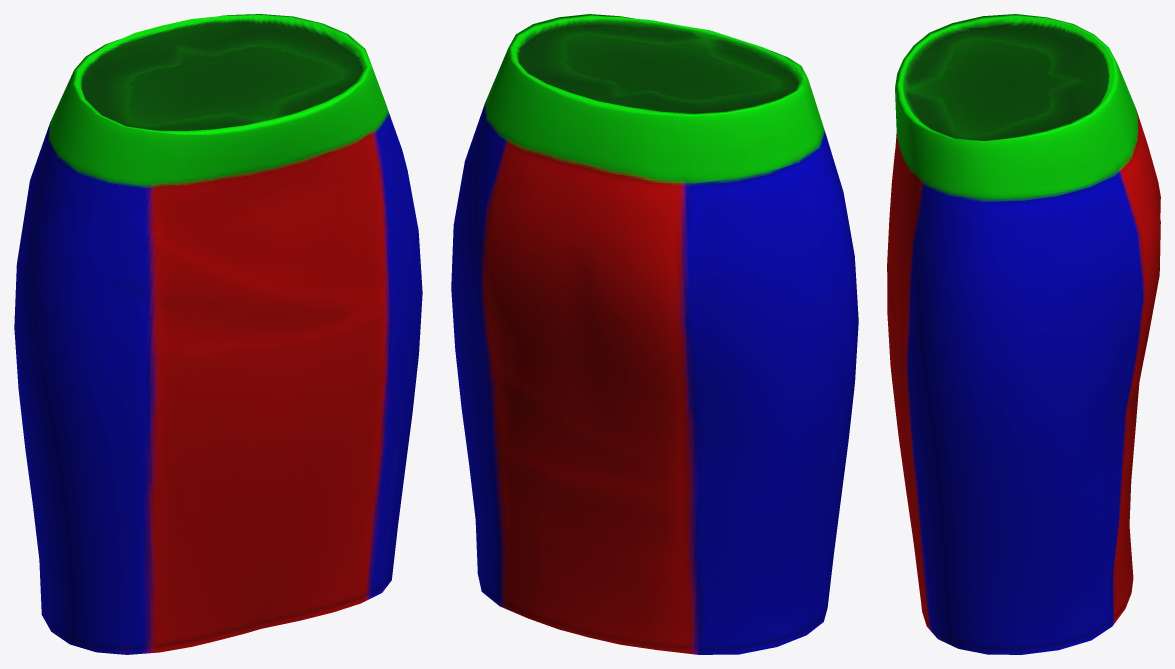
Rendered from Outfit_Bottom_OfficeSkirt.obj.
The picture shows the model from 3 angles, left to right: view 1: azimuth 30°, elevation 25°; view 2: azimuth 150°, elevation 25°; view 3: azimuth 270°, elevation 25°; orthographic projection. The views are drawn at different scales.
Parts seen in each view (by area): view 1: Outfit_Bottom_OfficeSkirt_0; view 2: Outfit_Bottom_OfficeSkirt_0; view 3: Outfit_Bottom_OfficeSkirt_0.
Boxes of the visible parts, <box> form: Outfit_Bottom_OfficeSkirt_0: <box>14,14,422,654</box>; Outfit_Bottom_OfficeSkirt_0: <box>451,14,858,654</box>; Outfit_Bottom_OfficeSkirt_0: <box>887,14,1160,654</box>.
Bounding box in the file's own units: 0.3683 × 0.4998 × 0.2442.
Materials: 1 (1 with a texture image).
